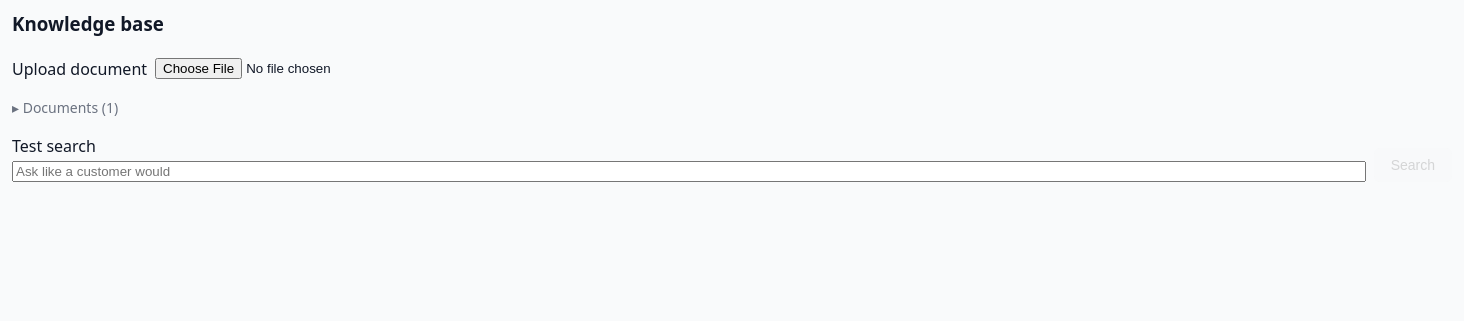
Scenario: KnowledgeBasePanel › runs a test search and shows matching passages
In the field labelled "Test search": (689, 171) top-left (12, 160), bottom-right (1366, 182), type "reset"
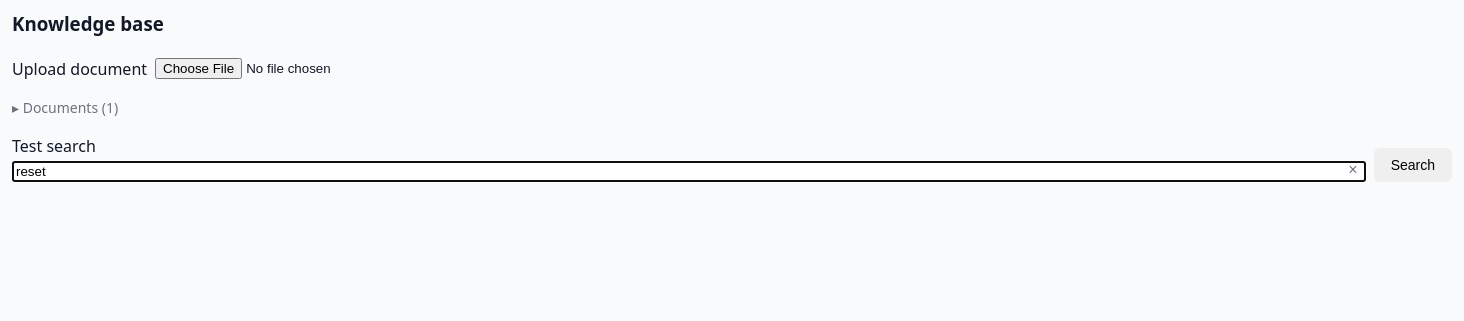
Click the button "Search": (1413, 164) top-left (1374, 148), bottom-right (1452, 182)
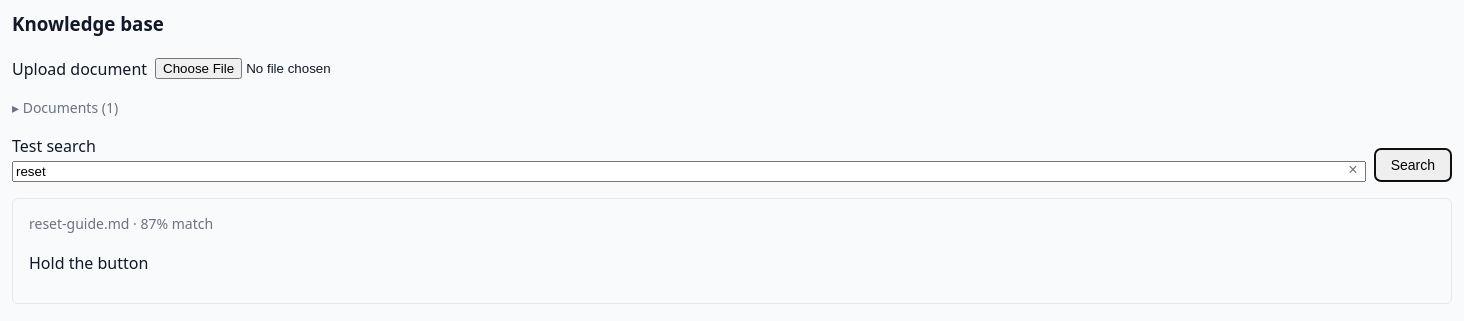
Check: the text "Hold the button" is shown, box top-left (29, 252), bottom-right (148, 274)
Check: the text "reset-guide.md · 87% match" is shown, box top-left (29, 214), bottom-right (213, 232)
